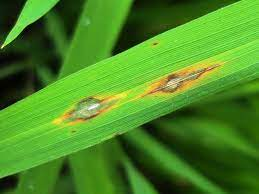Busuk Leher: (141, 69, 217, 96), (61, 95, 118, 122)
